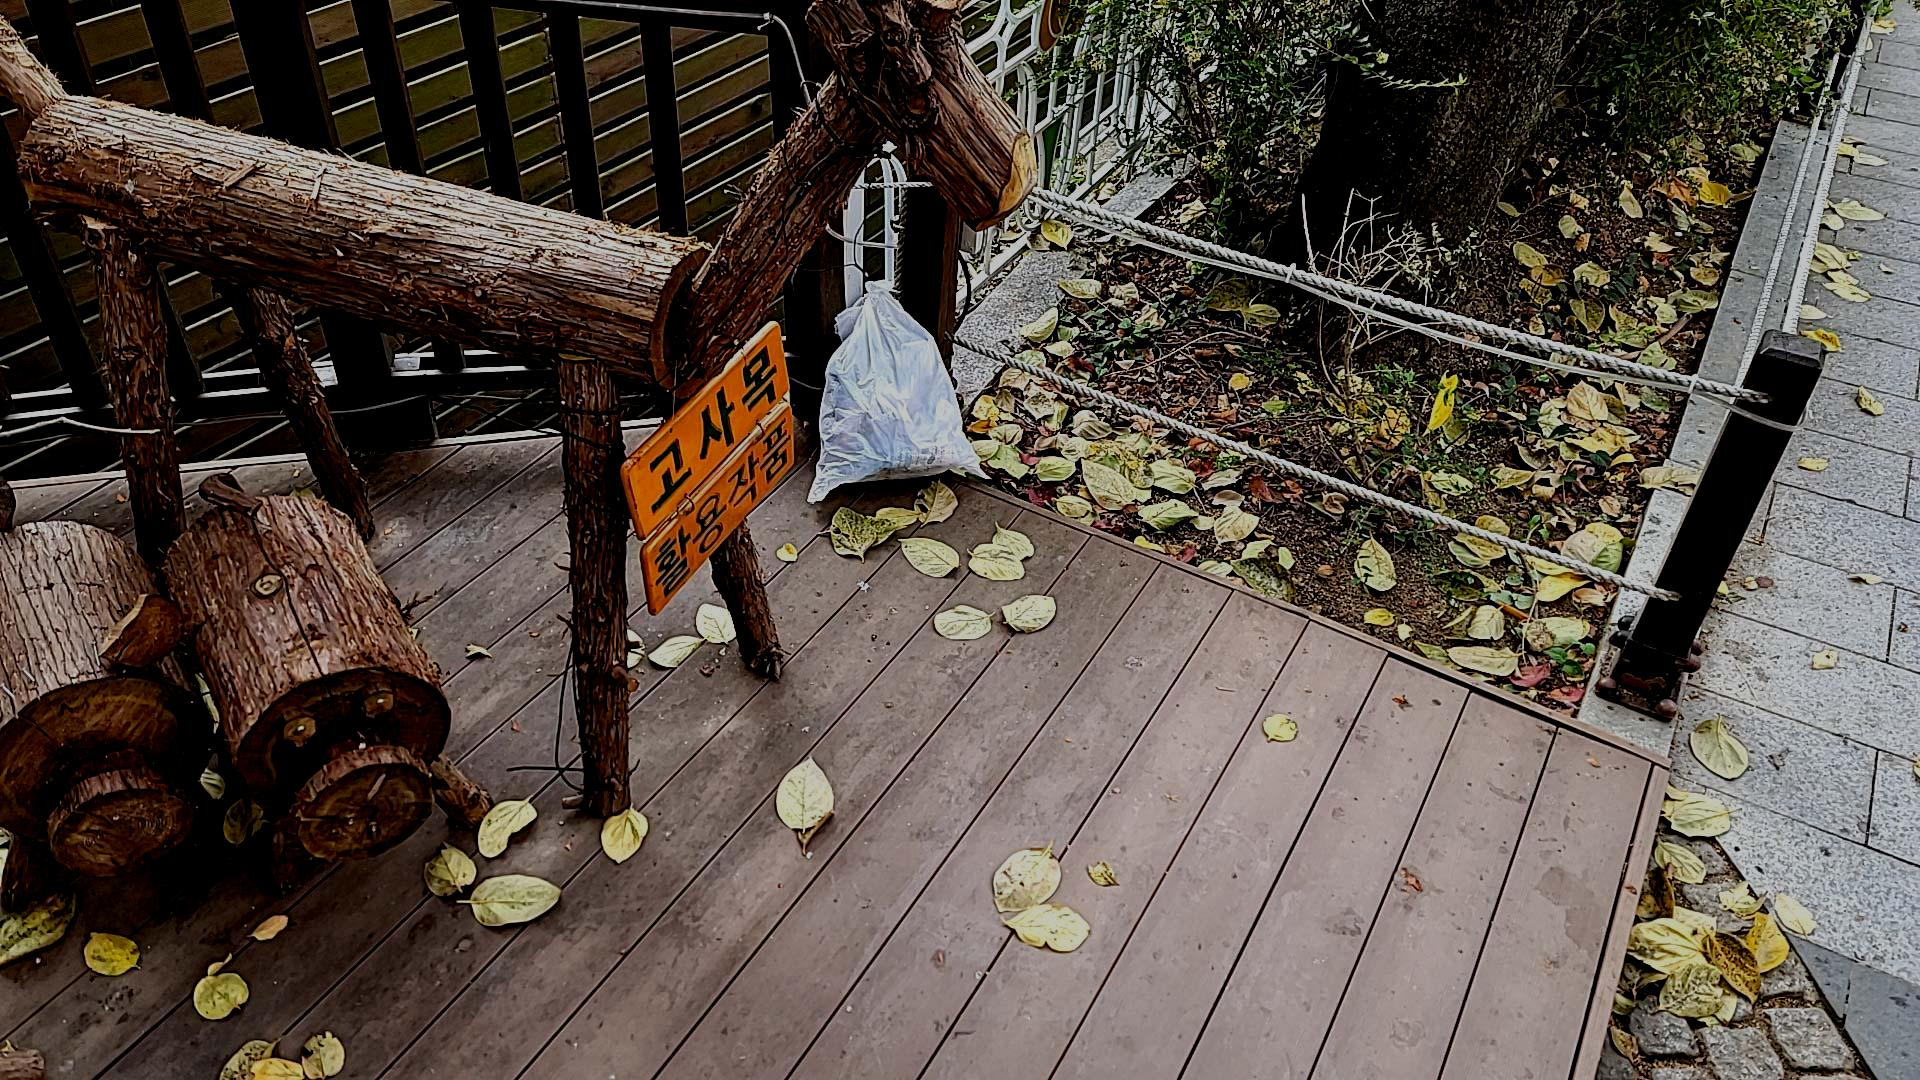white_bag: (808, 264, 997, 513)
